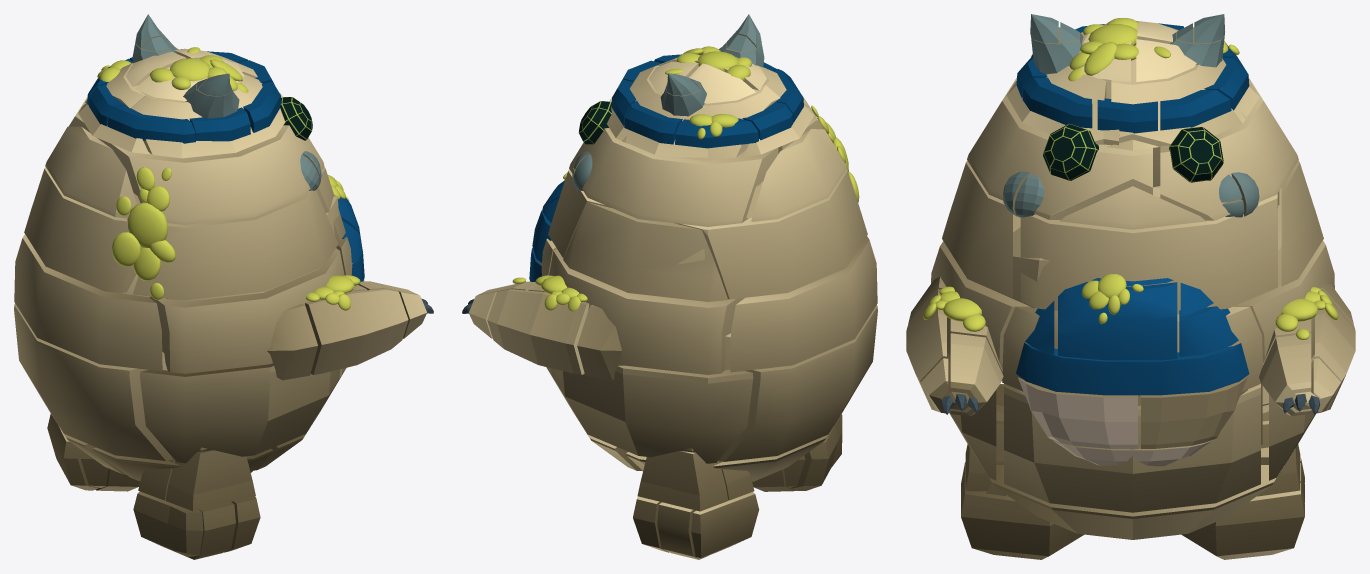
Rendered from Statue_Blue.fbx.
3 renders of one model, left to right at view 1: azimuth 30°, elevation 25°; view 2: azimuth 150°, elevation 25°; view 3: azimuth 270°, elevation 25°, orthographic. The views are drawn at different scales.
Parts seen in each view (by area): view 1: Statue_Blue, Statue_Sharp_3.003, Statue_Sharp_2.018, Statue_Sharp_4.010, Statue_Sharp_4.006, Statue_Sharp_3.002, Statue_Sharp_2.014, Statue_Sharp_2.011, Statue_Sharp_1.014, Statue_Sharp_1.010, Statue_Sharp_2.013, Statue_Sharp_2 (+11 smaller); view 2: Statue_Blue, Statue_Sharp_2.002, Statue_Sharp_3.002, Statue_Sharp_4.010, Statue_Sharp_3.004, Statue_Sharp_4, Statue_Sharp_2.014, Statue_Sharp_1.003, Statue_Sharp_1.008, Statue_Sharp_3.001, Statue_Sharp_1.014, Statue_Sharp_1.013 (+10 smaller); view 3: Statue_Blue, Statue_Sharp_3.001, Statue_Sharp_2.018, Statue_Sharp_4.004, Statue_Sharp_4.009, Statue_Sharp_2.002, Statue_Sharp_3.003, Statue_Sharp_1.003, Statue_Sharp_4.005, Statue_Sharp_3.004, Statue_Sharp_2.010, Statue_Sharp_1.014 (+22 smaller).
Boxes of the visible parts, x1,y1,x2,y2 form: Statue_Blue: (14, 275, 433, 559); Statue_Sharp_3.003: (132, 190, 338, 300); Statue_Sharp_2.018: (97, 93, 324, 224); Statue_Sharp_4.010: (14, 234, 162, 371); Statue_Sharp_4.006: (149, 248, 344, 373); Statue_Sharp_3.002: (24, 167, 141, 293); Statue_Sharp_2.014: (45, 126, 136, 218); Statue_Sharp_2.011: (131, 74, 285, 158); Statue_Sharp_1.014: (135, 55, 248, 100); Statue_Sharp_1.010: (107, 105, 195, 143); Statue_Sharp_2.013: (189, 107, 250, 141); Statue_Sharp_2: (127, 202, 167, 248); Statue_Blue: (462, 275, 877, 559); Statue_Sharp_2.002: (569, 128, 778, 226); Statue_Sharp_3.002: (675, 169, 867, 299); Statue_Sharp_4.010: (730, 236, 877, 372); Statue_Sharp_3.004: (563, 202, 727, 301); Statue_Sharp_4: (549, 248, 744, 374); Statue_Sharp_2.014: (751, 129, 846, 221); Statue_Sharp_1.003: (607, 62, 780, 160); Statue_Sharp_1.008: (675, 114, 758, 148); Statue_Sharp_3.001: (548, 169, 611, 258); Statue_Sharp_1.014: (658, 46, 766, 90); Statue_Sharp_1.013: (689, 63, 755, 103); Statue_Blue: (906, 277, 1355, 559); Statue_Sharp_3.001: (1020, 193, 1277, 314); Statue_Sharp_2.018: (967, 78, 1152, 219); Statue_Sharp_4.004: (1058, 273, 1177, 360); Statue_Sharp_4.009: (1016, 343, 1249, 395); Statue_Sharp_2.002: (1160, 77, 1298, 220); Statue_Sharp_3.003: (942, 160, 1012, 297); Statue_Sharp_1.003: (1111, 27, 1259, 145); Statue_Sharp_4.005: (1002, 306, 1262, 405); Statue_Sharp_3.004: (1281, 160, 1323, 286); Statue_Sharp_2.010: (1059, 186, 1205, 229); Statue_Sharp_1.014: (1068, 18, 1138, 82).
Bounding box in the file's own units: 725 × 1007 × 743.
